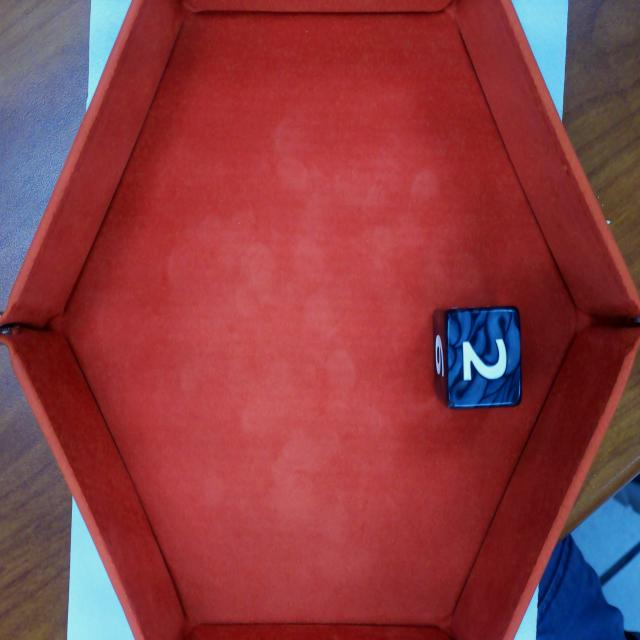dice: (445, 304, 523, 410)
